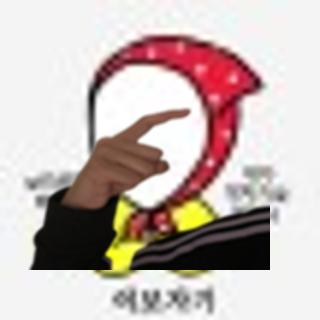WHY: (59, 101, 198, 211)
